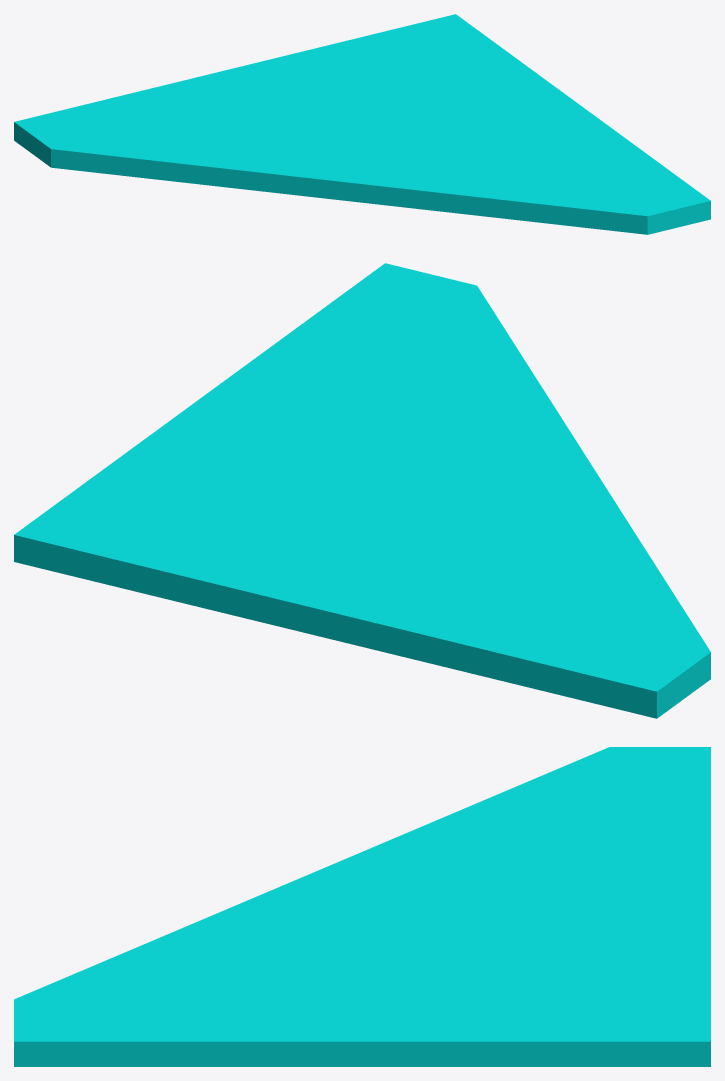
Rendered from SM_Bld_Floor_Destroyed_02_Collision.fbx.
The picture shows the model from 3 angles, top to bottom: view 1: azimuth 30°, elevation 25°; view 2: azimuth 150°, elevation 25°; view 3: azimuth 270°, elevation 25°; orthographic projection. The views are drawn at different scales.
Visible parts, largest first — view 1: SM_Bld_Floor_Destroyed_02_Collision; view 2: SM_Bld_Floor_Destroyed_02_Collision; view 3: SM_Bld_Floor_Destroyed_02_Collision.
Part boxes in pixels (x1,y1,x2,y2): SM_Bld_Floor_Destroyed_02_Collision: (14, 14, 710, 234); SM_Bld_Floor_Destroyed_02_Collision: (14, 263, 710, 718); SM_Bld_Floor_Destroyed_02_Collision: (14, 747, 710, 1066).
Bounding box in the file's own units: 250 × 10.06 × 250.
